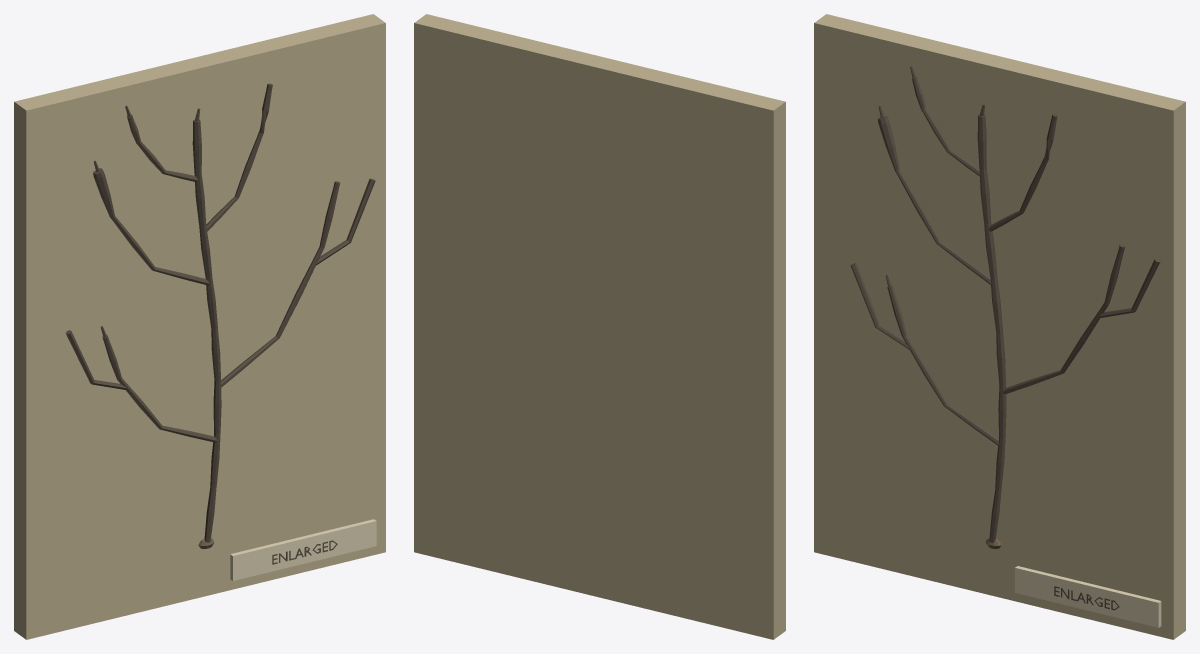
The model's file is proterocladus.glb.
3 renders of one model, left to right at view 1: azimuth 30°, elevation 25°; view 2: azimuth 150°, elevation 25°; view 3: azimuth 330°, elevation 25°, orthographic.
Parts seen in each view (by area): view 1: proterocladus-asymmetric-multiorder-relief-enlarged; view 2: proterocladus-asymmetric-multiorder-relief-enlarged; view 3: proterocladus-asymmetric-multiorder-relief-enlarged.
Boxes of the visible parts, x1=… form: proterocladus-asymmetric-multiorder-relief-enlarged: x1=14, y1=14, x2=385, y2=639; proterocladus-asymmetric-multiorder-relief-enlarged: x1=414, y1=14, x2=785, y2=639; proterocladus-asymmetric-multiorder-relief-enlarged: x1=814, y1=14, x2=1185, y2=639.
Size of the model in its own units: 0.135 by 0.19 by 0.0108.
